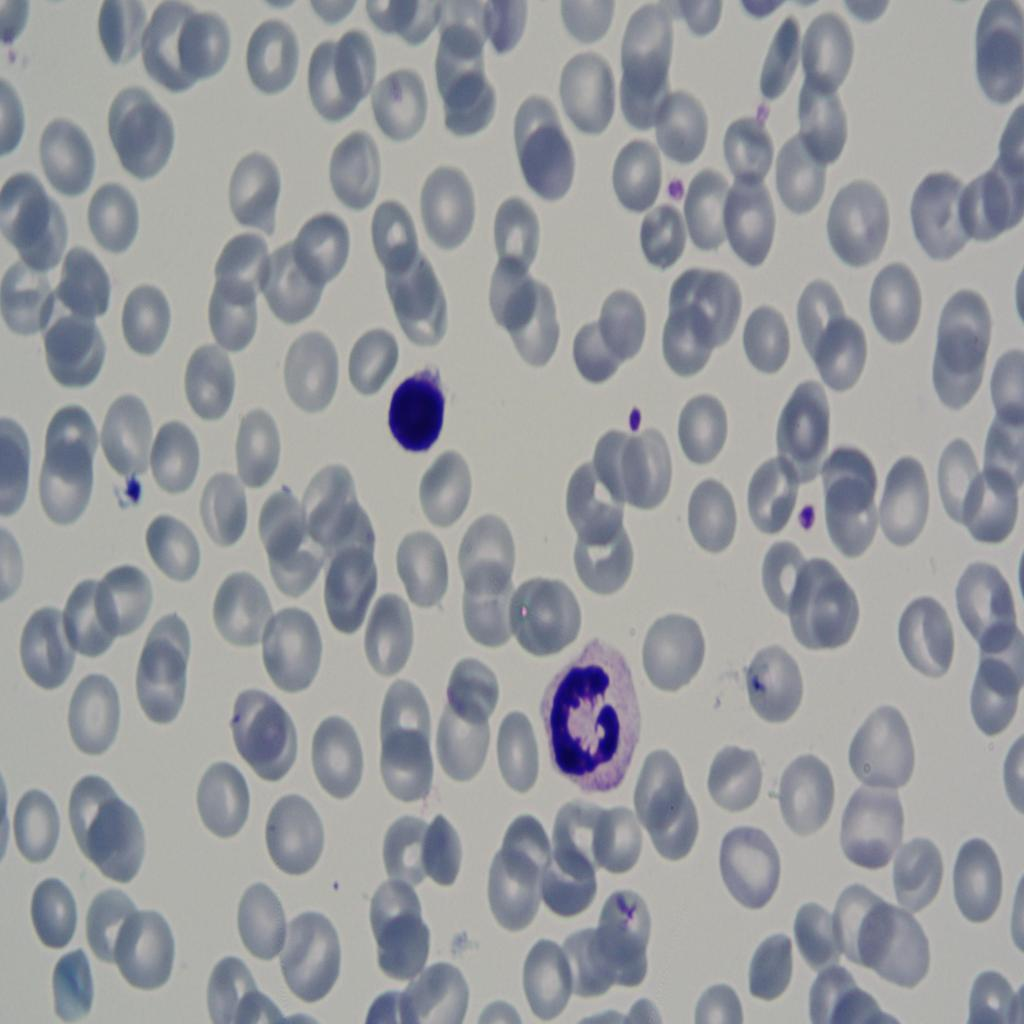Myeoblast: (366, 349, 444, 467)
Neutrofil: (544, 628, 643, 808)
Platelet: (786, 488, 826, 545), (616, 395, 658, 442), (659, 156, 688, 210), (123, 456, 142, 499)
